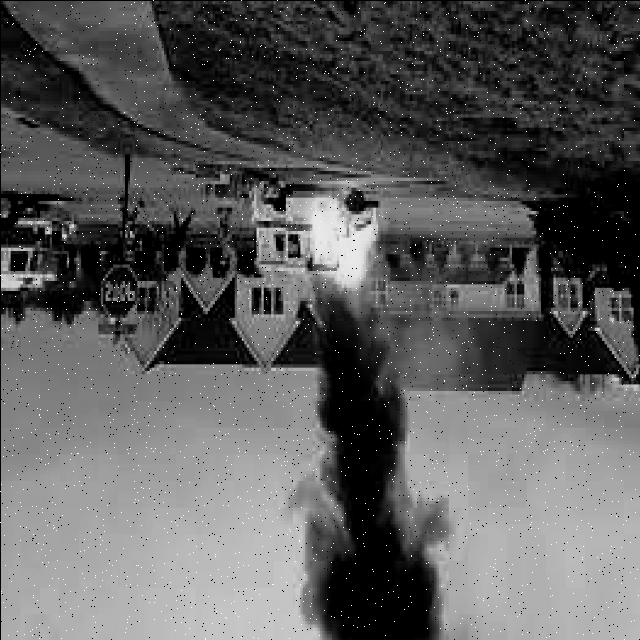api: (298, 192, 398, 308)
